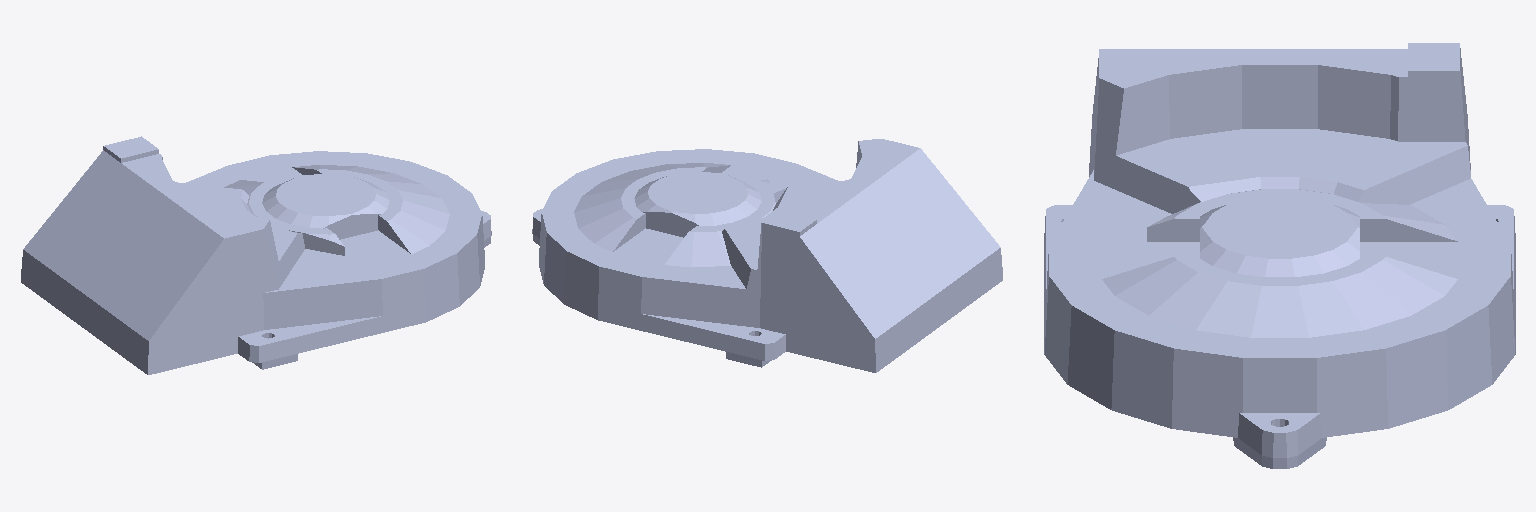
URDF robot description (base):
<robot
  name="base">
  <link
    name="base_with_coordinate_system">
    <inertial>
      <origin
        xyz="-0.11257 -4.1589E-05 0.057533"
        rpy="0 0 0" />
      <mass
        value="25.417" />
      <inertia
        ixx="0.347632032016038"
        ixy="-0.000497937869254212"
        ixz="0.0371909126715644"
        iyy="0.710520929572187"
        iyz="0.000244473496051384"
        izz="0.978461123632107" />
    </inertial>
    <visual>
      <origin
        xyz="0 0 0"
        rpy="0 0 0" />
      <geometry>
        <mesh
          filename="package://base_with_coordinate_system/meshes/base_with_coordinate_system.STL" />
      </geometry>
      <material
        name="">
        <color
          rgba="0.79216 0.81961 0.93333 1" />
      </material>
    </visual>
    <collision>
      <origin
        xyz="0 0 0"
        rpy="0 0 0" />
      <geometry>
        <mesh
          filename="package://base_with_coordinate_system/meshes/base_with_coordinate_system.STL" />
      </geometry>
    </collision>
  </link>
</robot>

--- Render facts (derived) ---
3 views of the same robot in one strip: view 1: azimuth 30°, elevation 25°; view 2: azimuth 150°, elevation 25°; view 3: azimuth 270°, elevation 25° (orthographic).
Model base with 1 links and 0 joints (none), rooted at base_with_coordinate_system, posed all joints at 0.
Links seen in each view (by area): view 1: base_with_coordinate_system; view 2: base_with_coordinate_system; view 3: base_with_coordinate_system.
Link boxes in pixels (<box>): base_with_coordinate_system: <box>21,136,491,374</box>; base_with_coordinate_system: <box>532,139,1002,372</box>; base_with_coordinate_system: <box>1044,43,1515,468</box>.
Bounding box of the posed robot: 0.667 × 0.45 × 0.2 m (x, y, z).
Meshes: 1 distinct files referenced, 1 mesh visuals loaded (1 binary STL).